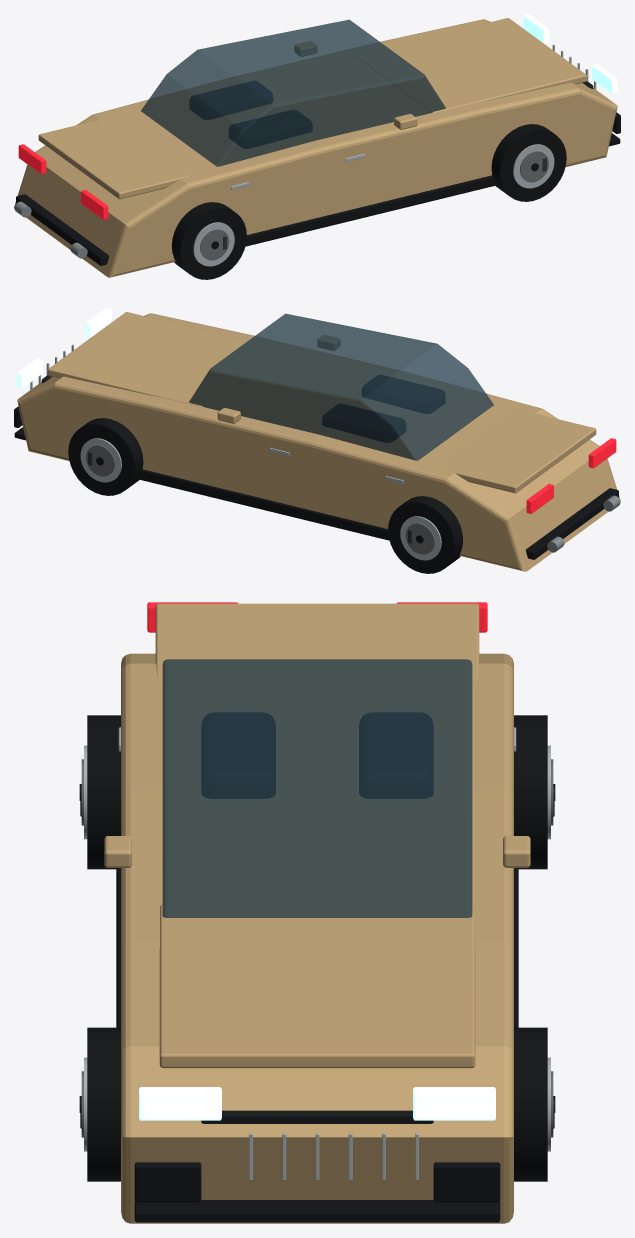
The model's file is rr_corniche.glb.
3 views of the same model, one above another, from view 1: azimuth 30°, elevation 25°; view 2: azimuth 150°, elevation 25°; view 3: azimuth 270°, elevation 25° (orthographic). The views are drawn at different scales.
Parts seen in each view (by area): view 1: sculpted_body, glasshouse, hood_center, rear_deck, rear_right_wheel_tire, front_right_wheel_tire, side_skirt_1, seat_-1, seat_1, rear_diffuser, front_right_wheel_rim, rear_right_wheel_rim (+6 smaller); view 2: sculpted_body, glasshouse, hood_center, rear_deck, rear_left_wheel_tire, front_left_wheel_tire, side_skirt_-1, seat_1, seat_-1, rear_diffuser, front_left_wheel_rim, rear_left_wheel_rim (+6 smaller); view 3: sculpted_body, glasshouse, hood_center, rear_deck, front_splitter, seat_-1, seat_1, front_left_wheel_tire, front_right_wheel_tire, rear_left_wheel_tire, rear_right_wheel_tire, front_grille (+6 smaller).
Part boxes in pixels (x1,y1,x2,y2): sculpted_body: (14, 19, 617, 277); glasshouse: (141, 19, 445, 166); hood_center: (355, 18, 586, 112); rear_deck: (38, 115, 198, 199); rear_right_wheel_tire: (172, 202, 246, 279); front_right_wheel_tire: (491, 124, 566, 201); side_skirt_1: (245, 175, 496, 246); seat_-1: (190, 81, 272, 119); seat_1: (229, 110, 311, 148); rear_diffuser: (16, 194, 108, 265); front_right_wheel_rim: (513, 144, 554, 188); rear_right_wheel_rim: (193, 222, 234, 266); sculpted_body: (17, 313, 620, 571); glasshouse: (189, 313, 493, 460); hood_center: (48, 312, 279, 406); rear_deck: (436, 409, 596, 493); rear_left_wheel_tire: (388, 496, 462, 573); front_left_wheel_tire: (68, 418, 143, 495); side_skirt_-1: (138, 469, 389, 540); seat_1: (362, 375, 444, 413); seat_-1: (323, 404, 405, 442); rear_diffuser: (526, 488, 618, 559); front_left_wheel_rim: (80, 438, 121, 482); rear_left_wheel_rim: (400, 516, 441, 560); sculpted_body: (121, 653, 513, 1223); glasshouse: (162, 659, 472, 917); hood_center: (159, 904, 475, 1068); rear_deck: (155, 603, 479, 681); front_splitter: (134, 1200, 500, 1222); seat_-1: (359, 713, 432, 798); seat_1: (202, 713, 275, 798); front_left_wheel_tire: (514, 1027, 547, 1181); front_right_wheel_tire: (87, 1027, 120, 1181); rear_left_wheel_tire: (514, 715, 547, 869); rear_right_wheel_tire: (87, 715, 120, 869); front_grille: (201, 1110, 433, 1123).
Bounding box in the file's own units: 5.76 × 1.45 × 2.22.
